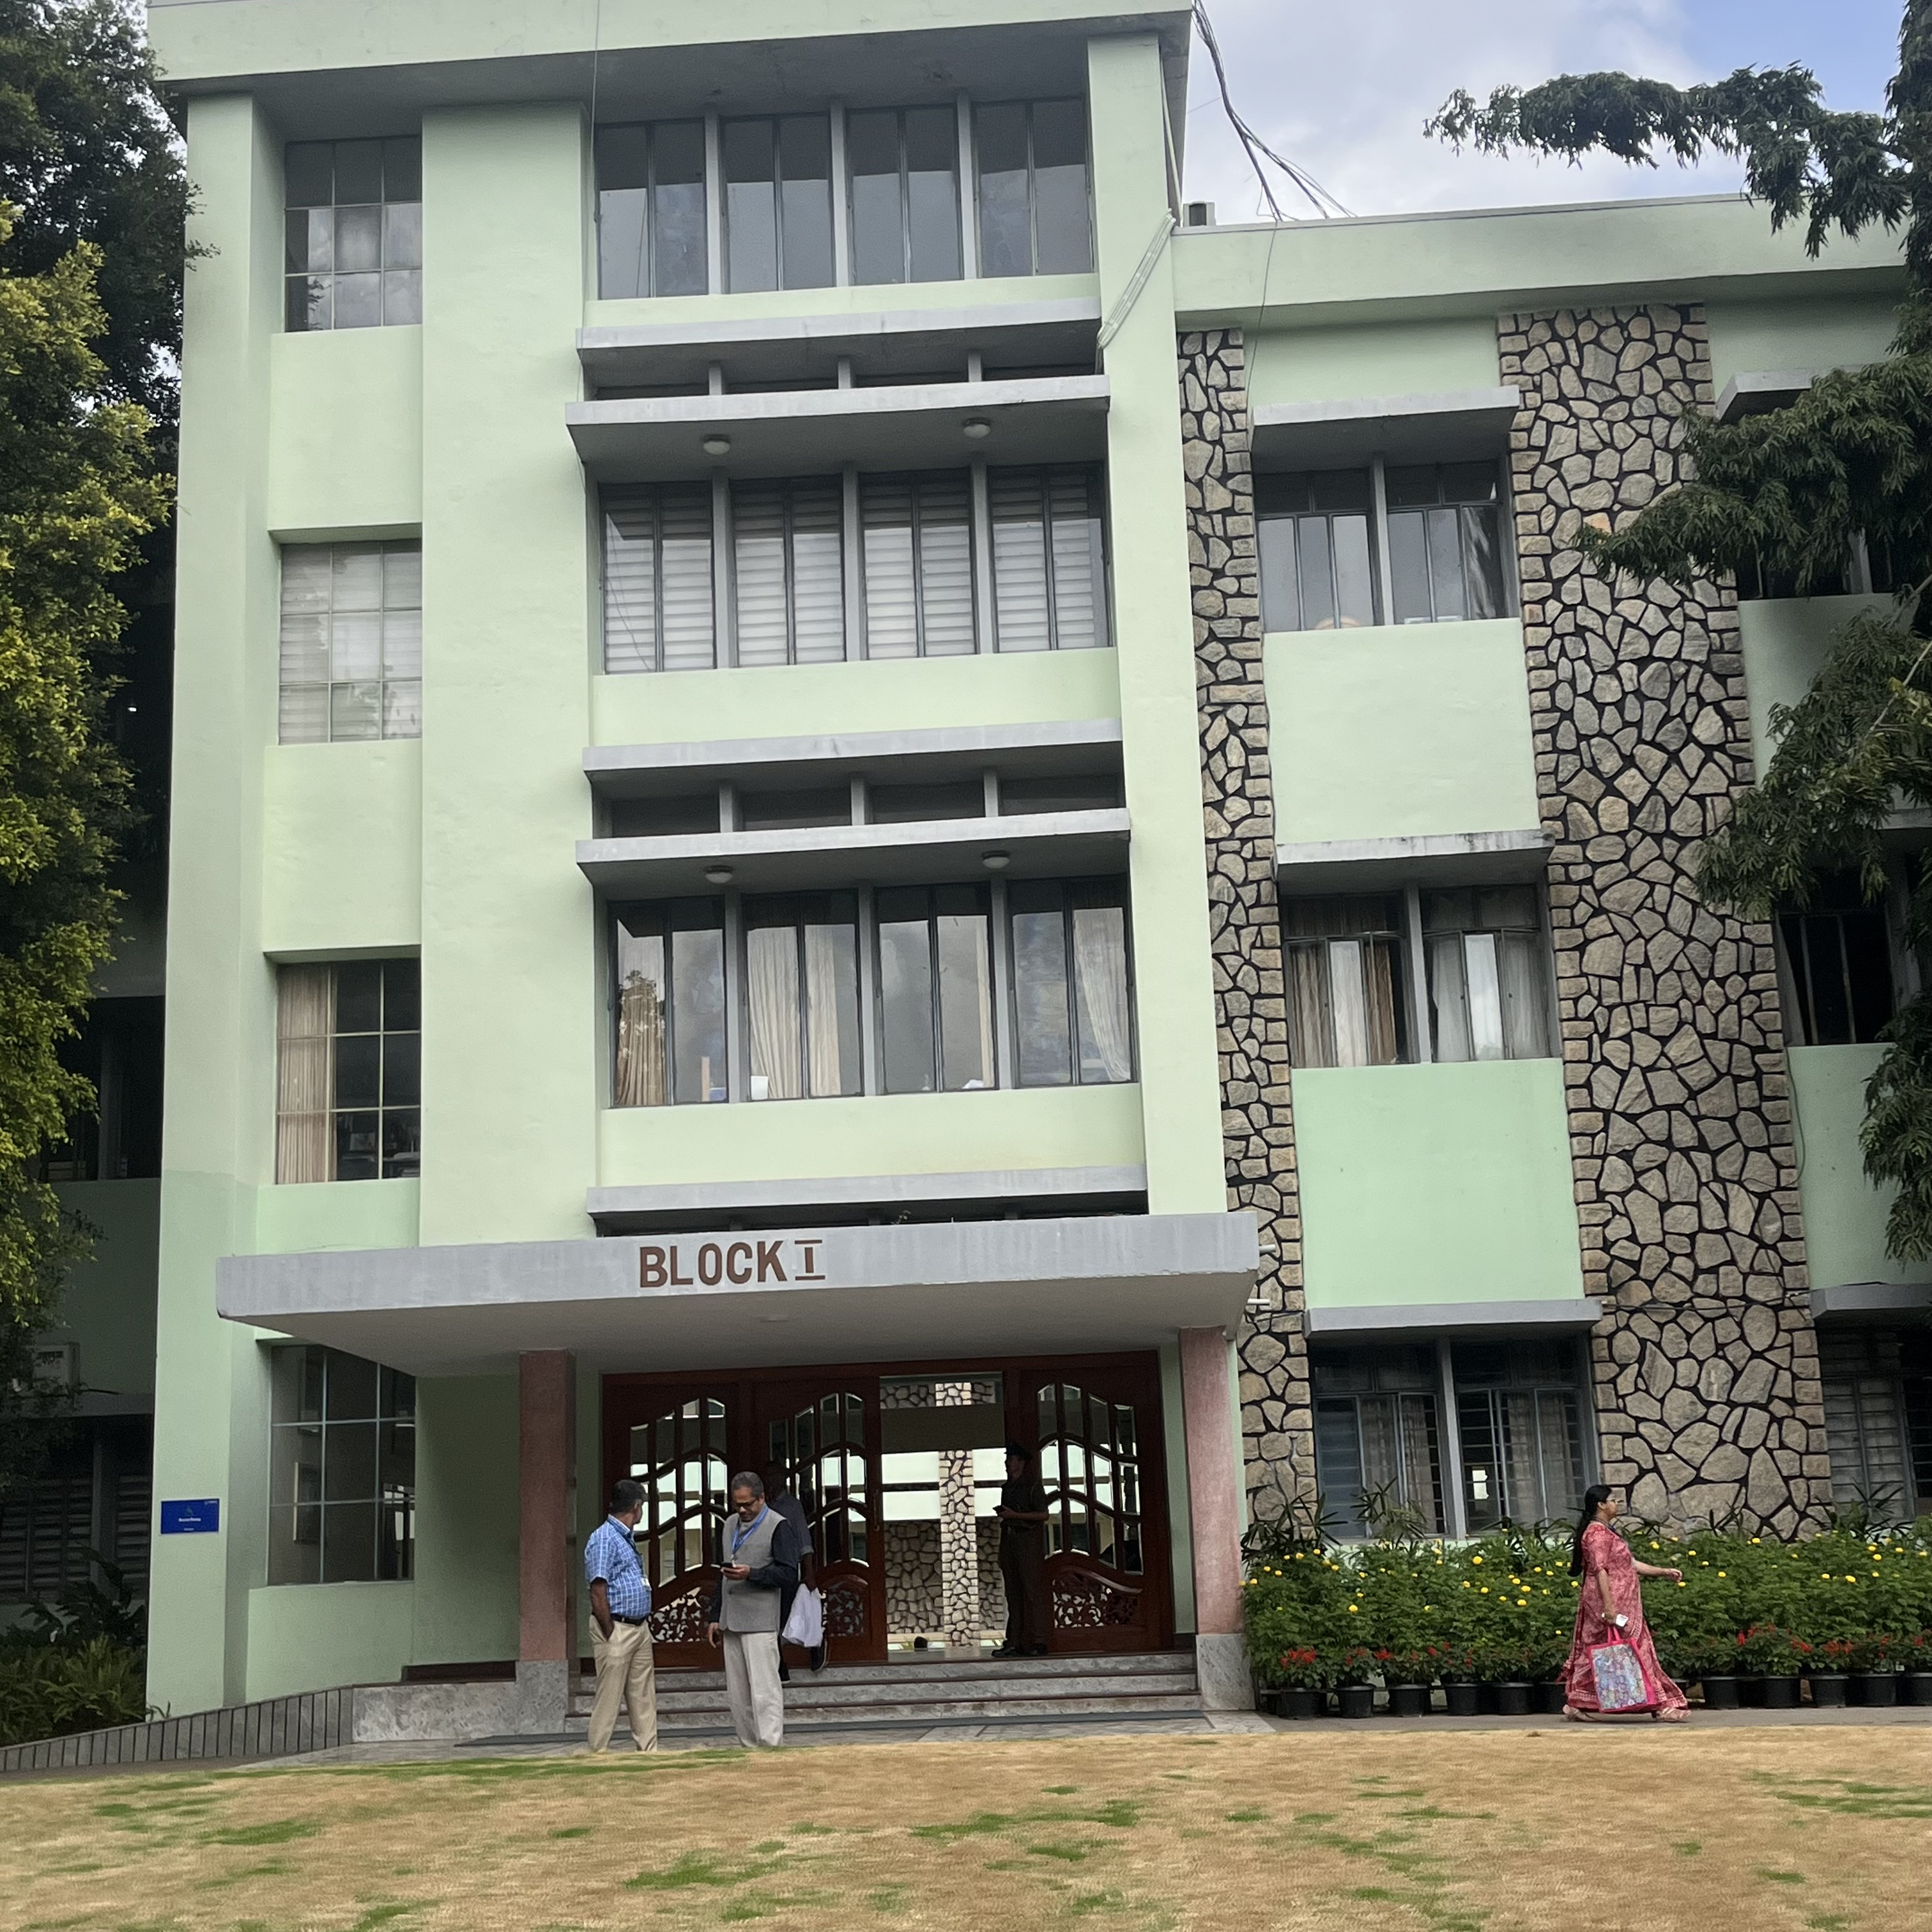Block 1: (170, 16, 1865, 1511)
